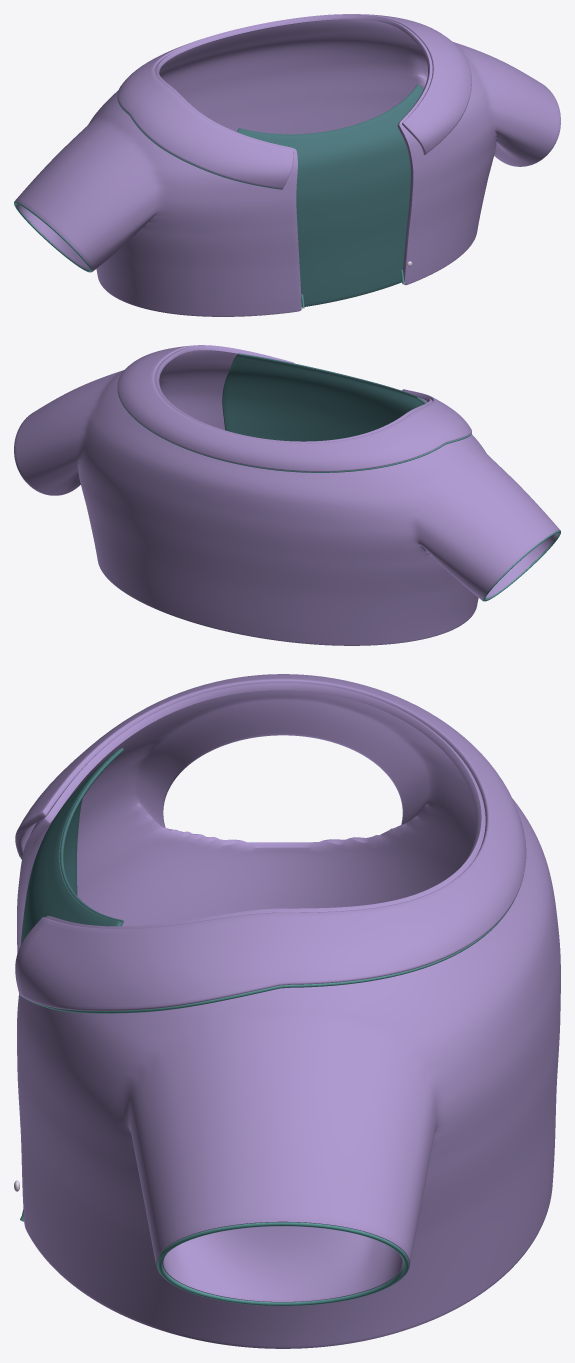
The model's file is Masculine-open-top.glb.
The picture shows the model from 3 angles, top to bottom: view 1: azimuth 30°, elevation 25°; view 2: azimuth 150°, elevation 25°; view 3: azimuth 270°, elevation 25°; orthographic projection. The views are drawn at different scales.
Visible parts, largest first — view 1: Clothing / open, Open shirt / inset underlayer, Open shirt / continuous falling collar, Sleeve / soft cuff -1 export; view 2: Clothing / open, Open shirt / continuous falling collar, Open shirt / inset underlayer, Collar / folded edge export, Open shirt / underlayer crew export, Sleeve / soft cuff -1 export; view 3: Clothing / open, Open shirt / continuous falling collar, Open shirt / inset underlayer, Sleeve / soft cuff 1 export, Collar / folded edge export, Open shirt / underlayer crew export.
Boxes of the visible parts, box(x1,y1,x2,y2) form: Clothing / open: box(14, 15, 560, 316); Open shirt / inset underlayer: box(237, 85, 423, 306); Open shirt / continuous falling collar: box(117, 14, 471, 189); Sleeve / soft cuff -1 export: box(14, 201, 91, 272); Clothing / open: box(14, 346, 560, 645); Open shirt / continuous falling collar: box(117, 345, 471, 471); Open shirt / inset underlayer: box(222, 354, 426, 441); Collar / folded edge export: box(117, 389, 471, 472); Open shirt / underlayer crew export: box(238, 353, 418, 398); Sleeve / soft cuff -1 export: box(483, 530, 560, 601); Clothing / open: box(17, 682, 560, 1348); Open shirt / continuous falling collar: box(15, 674, 526, 1010); Open shirt / inset underlayer: box(20, 749, 122, 945); Sleeve / soft cuff 1 export: box(157, 1222, 408, 1305); Collar / folded edge export: box(21, 857, 514, 1013); Open shirt / underlayer crew export: box(60, 748, 123, 923).
Size of the model in its own units: 0.9475 by 0.3423 by 0.4434.
